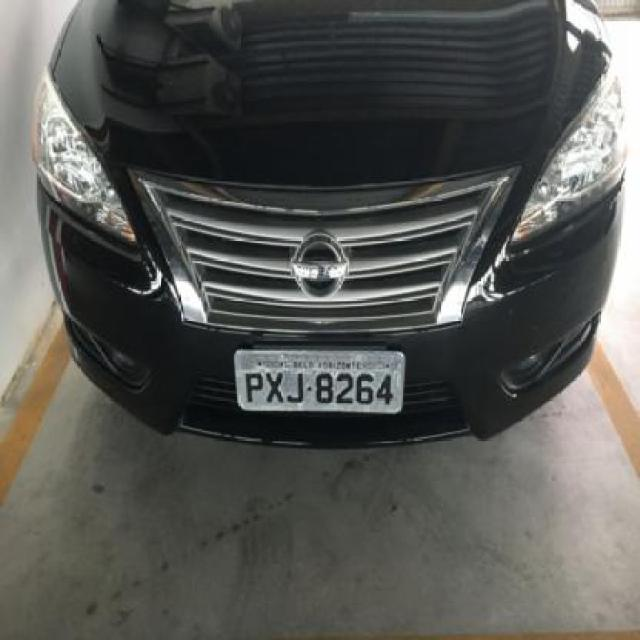old_plate: (229, 343, 415, 418)
